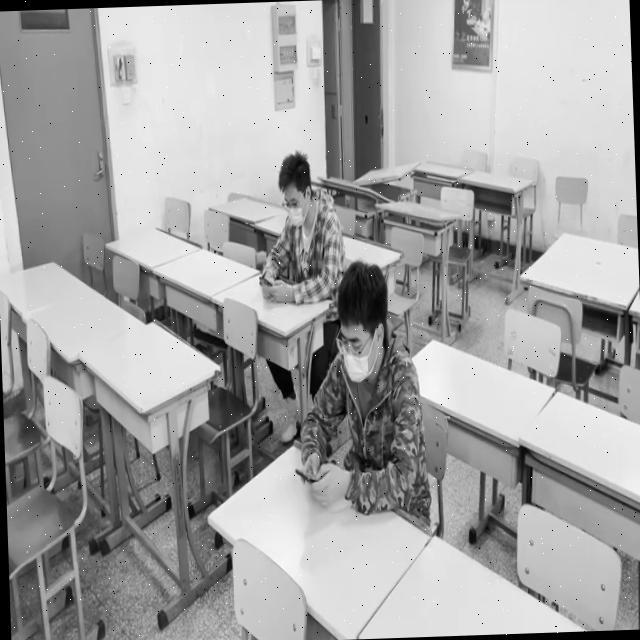phone: (295, 297, 426, 502), (253, 149, 336, 300)
